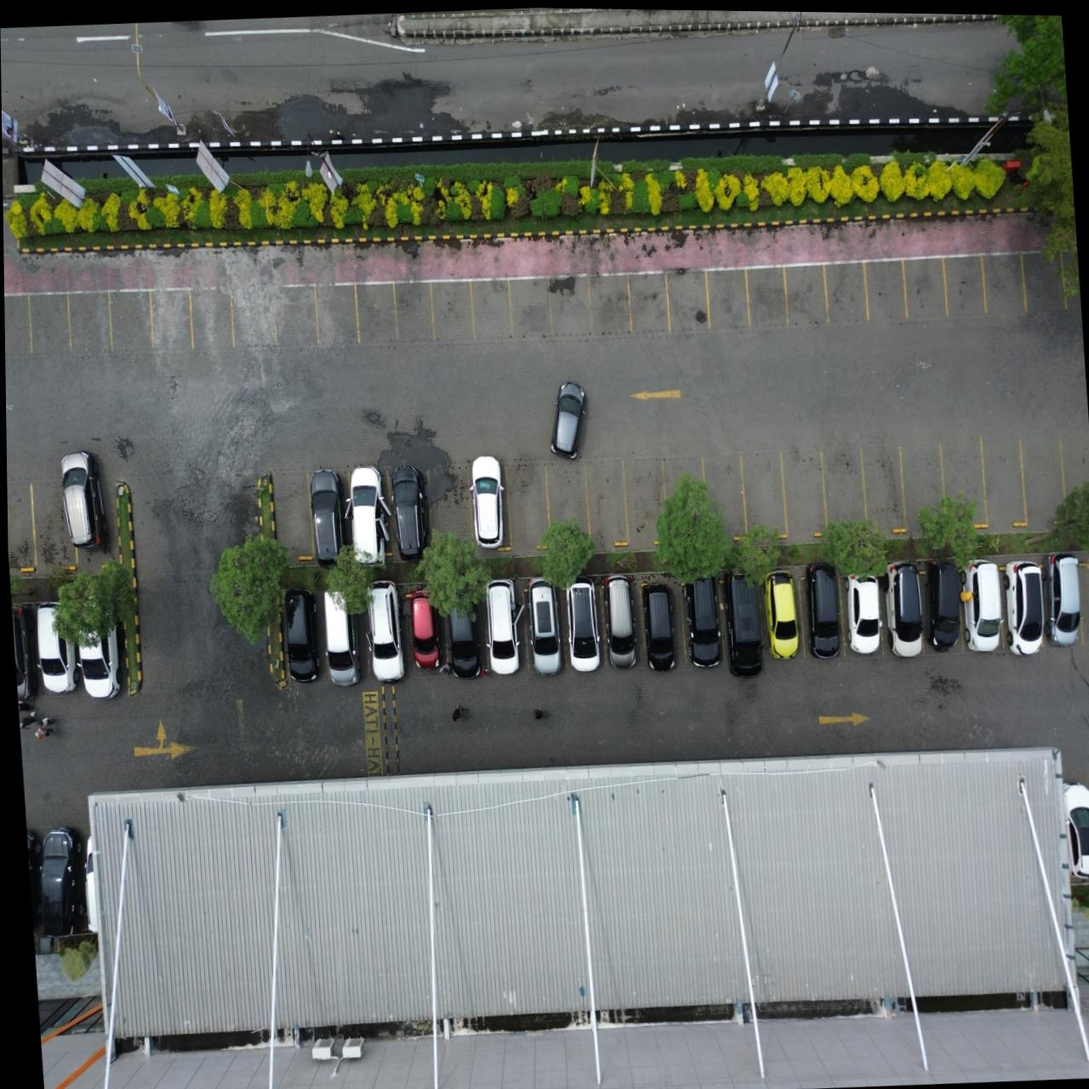cars: (387, 462, 428, 559), (469, 456, 509, 555), (349, 466, 390, 560), (311, 467, 352, 561), (801, 569, 842, 653), (720, 574, 763, 654), (1001, 561, 1042, 644), (444, 584, 486, 665), (322, 589, 364, 670), (1043, 558, 1083, 642), (561, 582, 604, 660), (881, 568, 923, 647), (281, 591, 323, 670), (961, 563, 1001, 645), (640, 580, 682, 657), (763, 572, 802, 653), (524, 582, 563, 661), (486, 583, 525, 662), (367, 589, 406, 668), (842, 569, 880, 650), (406, 587, 444, 667), (601, 581, 639, 658), (924, 566, 960, 646), (682, 578, 719, 655)
empty: (980, 433, 1026, 538), (1021, 432, 1067, 536), (426, 457, 473, 558), (940, 435, 985, 539), (741, 444, 786, 547), (781, 443, 826, 546), (821, 441, 866, 544), (662, 448, 707, 550), (701, 446, 745, 549), (861, 440, 905, 543), (900, 438, 944, 541), (505, 454, 549, 556), (545, 452, 589, 554), (623, 449, 667, 551), (584, 451, 627, 552), (271, 467, 313, 565)
